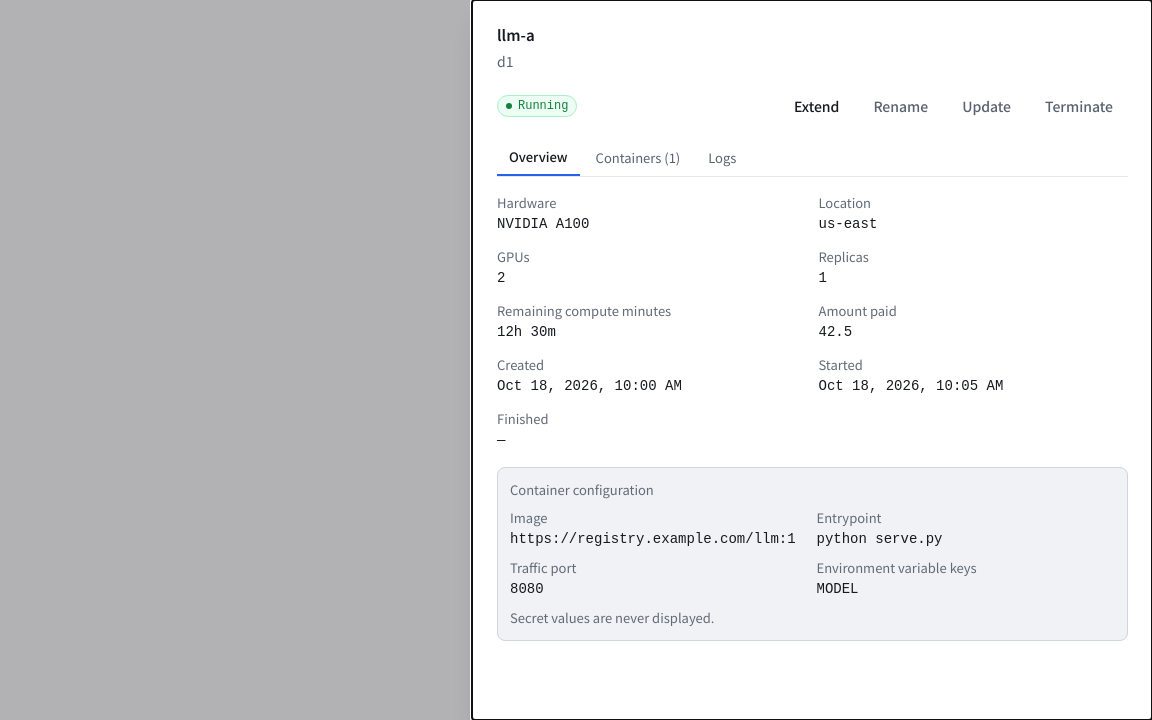
deployment detail drawer (F-08-56) › lists containers and opens a nested container drawer
What coordinates should you click on to do the following:
click the tab "Containers (1)"
I would click on:
 (638, 158)
Its box is [584,140,692,176].
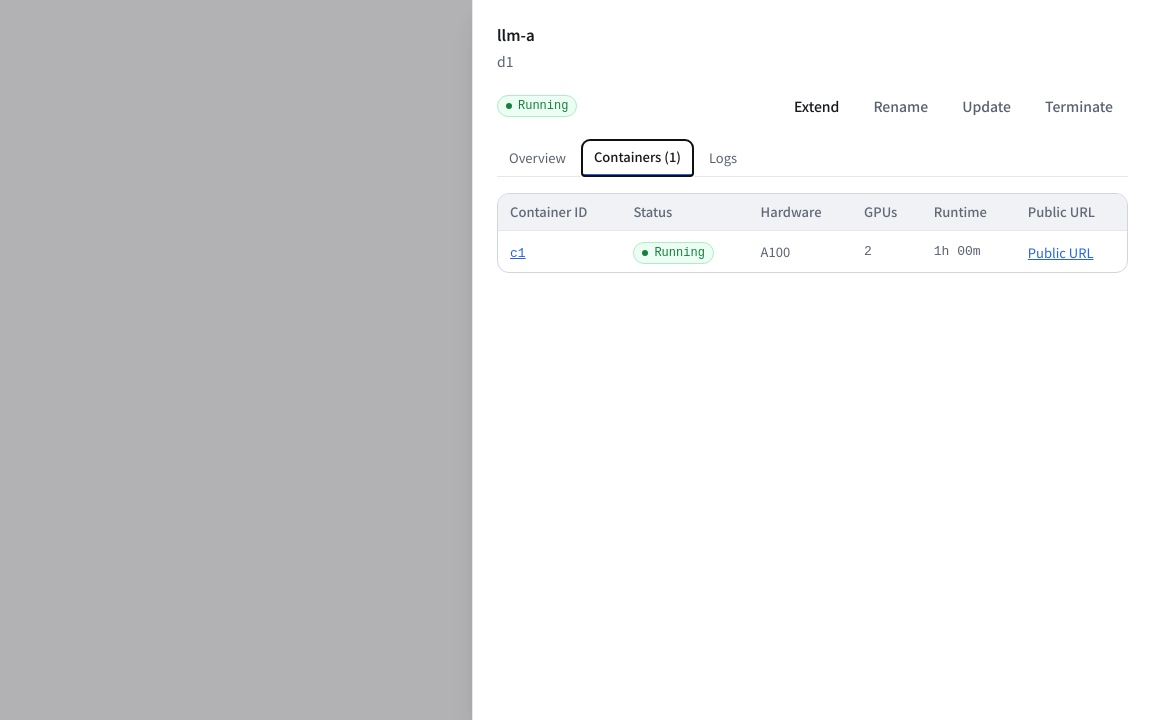
What coordinates should you click on to do the following:
click the button "c1"
I would click on:
 (518, 254)
Its box is [510,244,526,264].
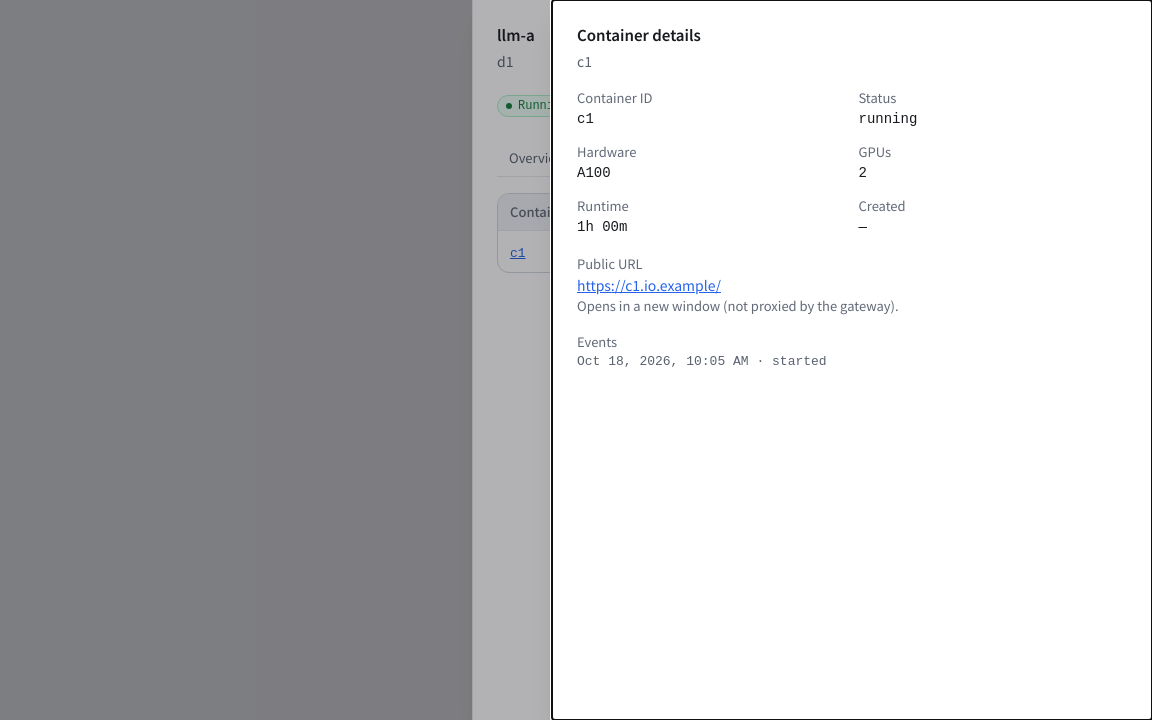
Expected: the list item "Oct 18, 2026, 10:05 AM · started" is shown, [577,354,827,369]
Expected: the link "https://c1.io.example/" is shown, [577,275,721,295]
